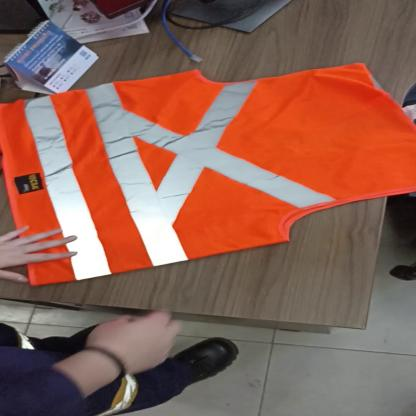colete: (0, 61, 416, 280)
